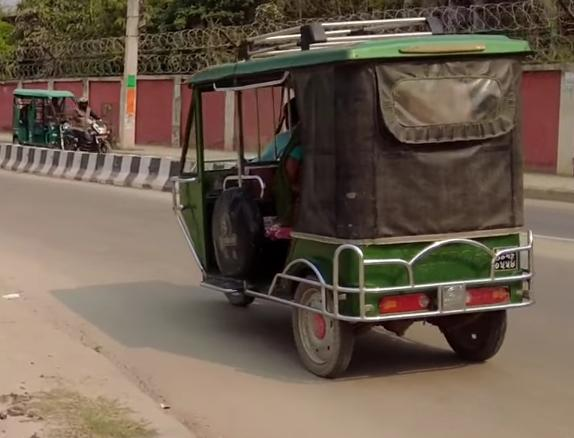bike: (69, 118, 116, 158)
e-rickshaw: (173, 19, 536, 371), (9, 85, 77, 153)
